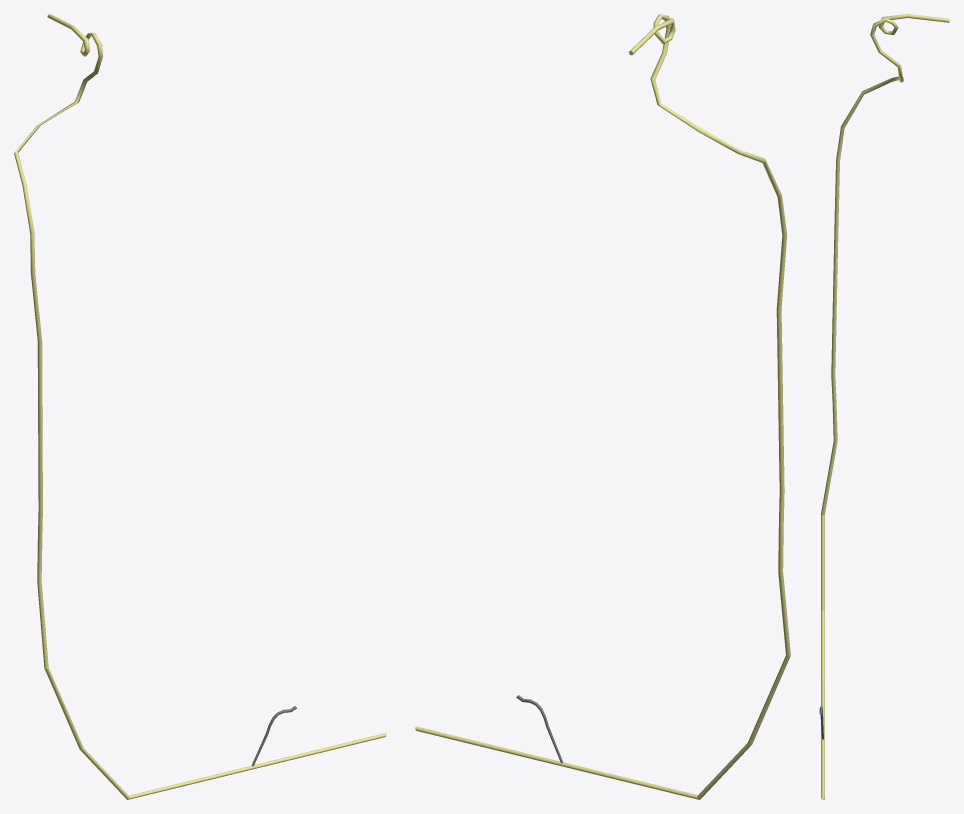
File: Chord03.fbx
3 renders of one model, left to right at view 1: azimuth 30°, elevation 25°; view 2: azimuth 150°, elevation 25°; view 3: azimuth 270°, elevation 25°, orthographic. The views are drawn at different scales.
Visible parts, largest first — view 1: Chord; view 2: Chord; view 3: Chord.
Part boxes in pixels (x1,y1,x2,y2): Chord: (14,14,386,799); Chord: (415,14,790,799); Chord: (821,14,949,799).
Size of the model in its own units: 9.79 by 20 by 3.54.
